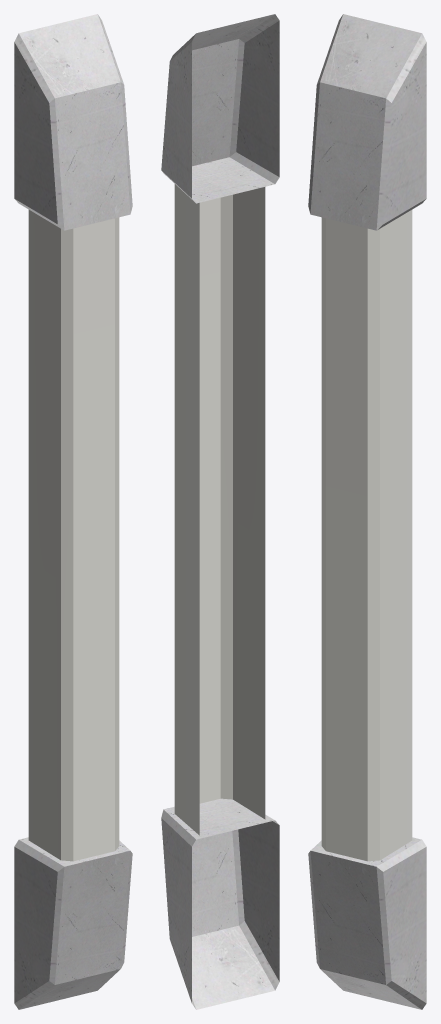
Rendered from pG_lightBar_01.fbx.
3 renders of one model, left to right at view 1: azimuth 30°, elevation 25°; view 2: azimuth 210°, elevation 25°; view 3: azimuth 330°, elevation 25°, orthographic.
Parts seen in each view (by area): view 1: pG_lightBar_01; view 2: pG_lightBar_01; view 3: pG_lightBar_01.
Part boxes in pixels (box(x1,y1,x2,y2)): pG_lightBar_01: box(14, 14, 132, 1009); pG_lightBar_01: box(161, 14, 279, 1009); pG_lightBar_01: box(308, 14, 426, 1009).
Size of the model in its own units: 7.67 by 81.56 by 5.95.
2 materials, 2 textured.
